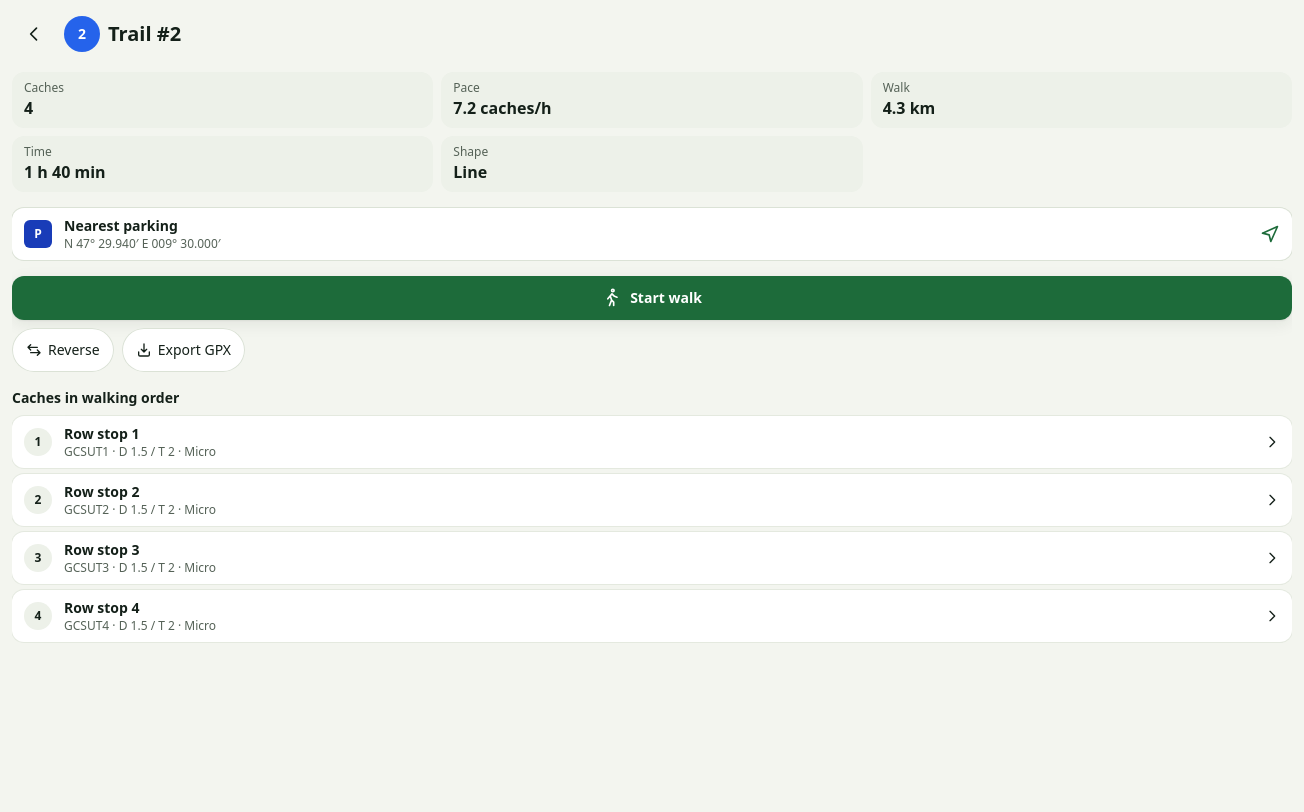
it: TrailDetail › points to the parking nearest the start, which turns with the order
Expected: the link with test id "trail-parking" shows "N 47° 29.940′ E 009° 30.000′", [12, 208, 1292, 260]
Click the button "Reverse" at coordinates (63, 350), box [12, 328, 114, 372]
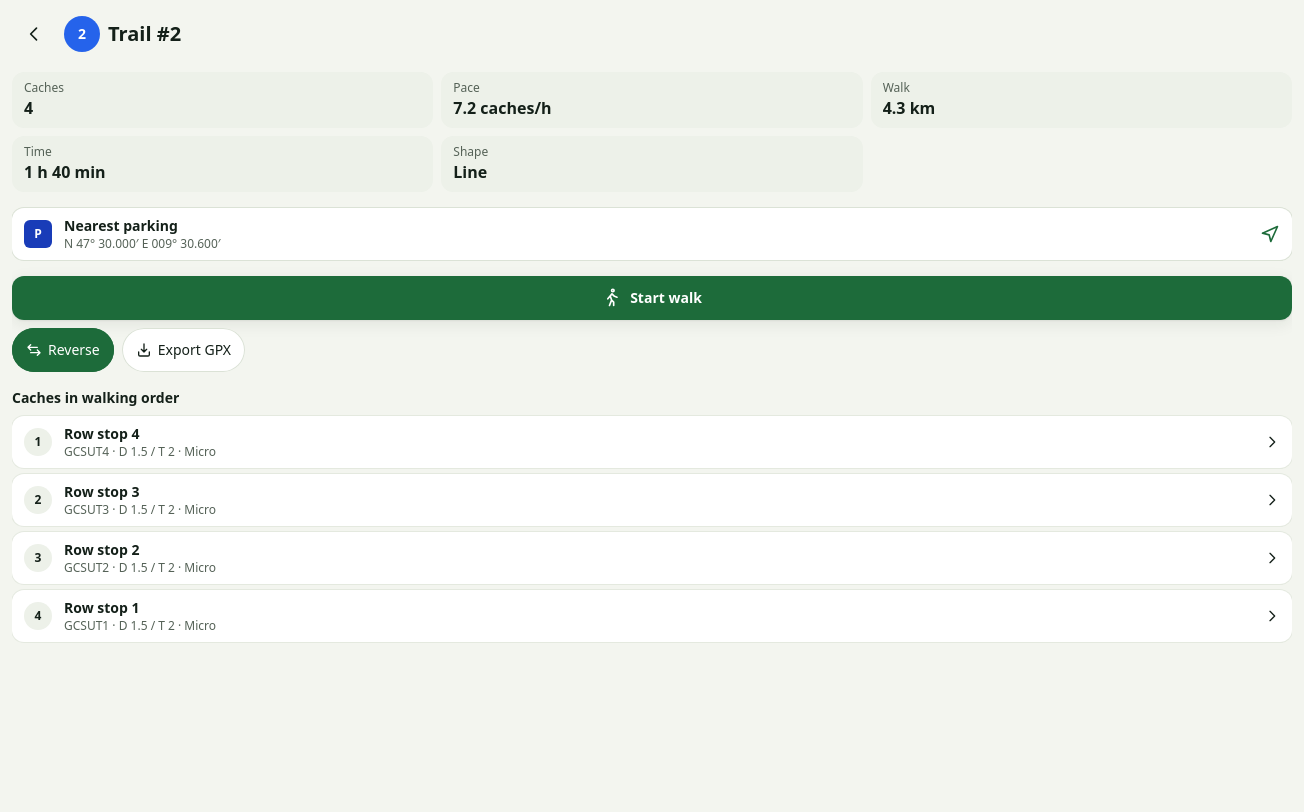
Expected: the link with test id "trail-parking" shows "N 47° 30.000′ E 009° 30.600′", [12, 208, 1292, 260]
